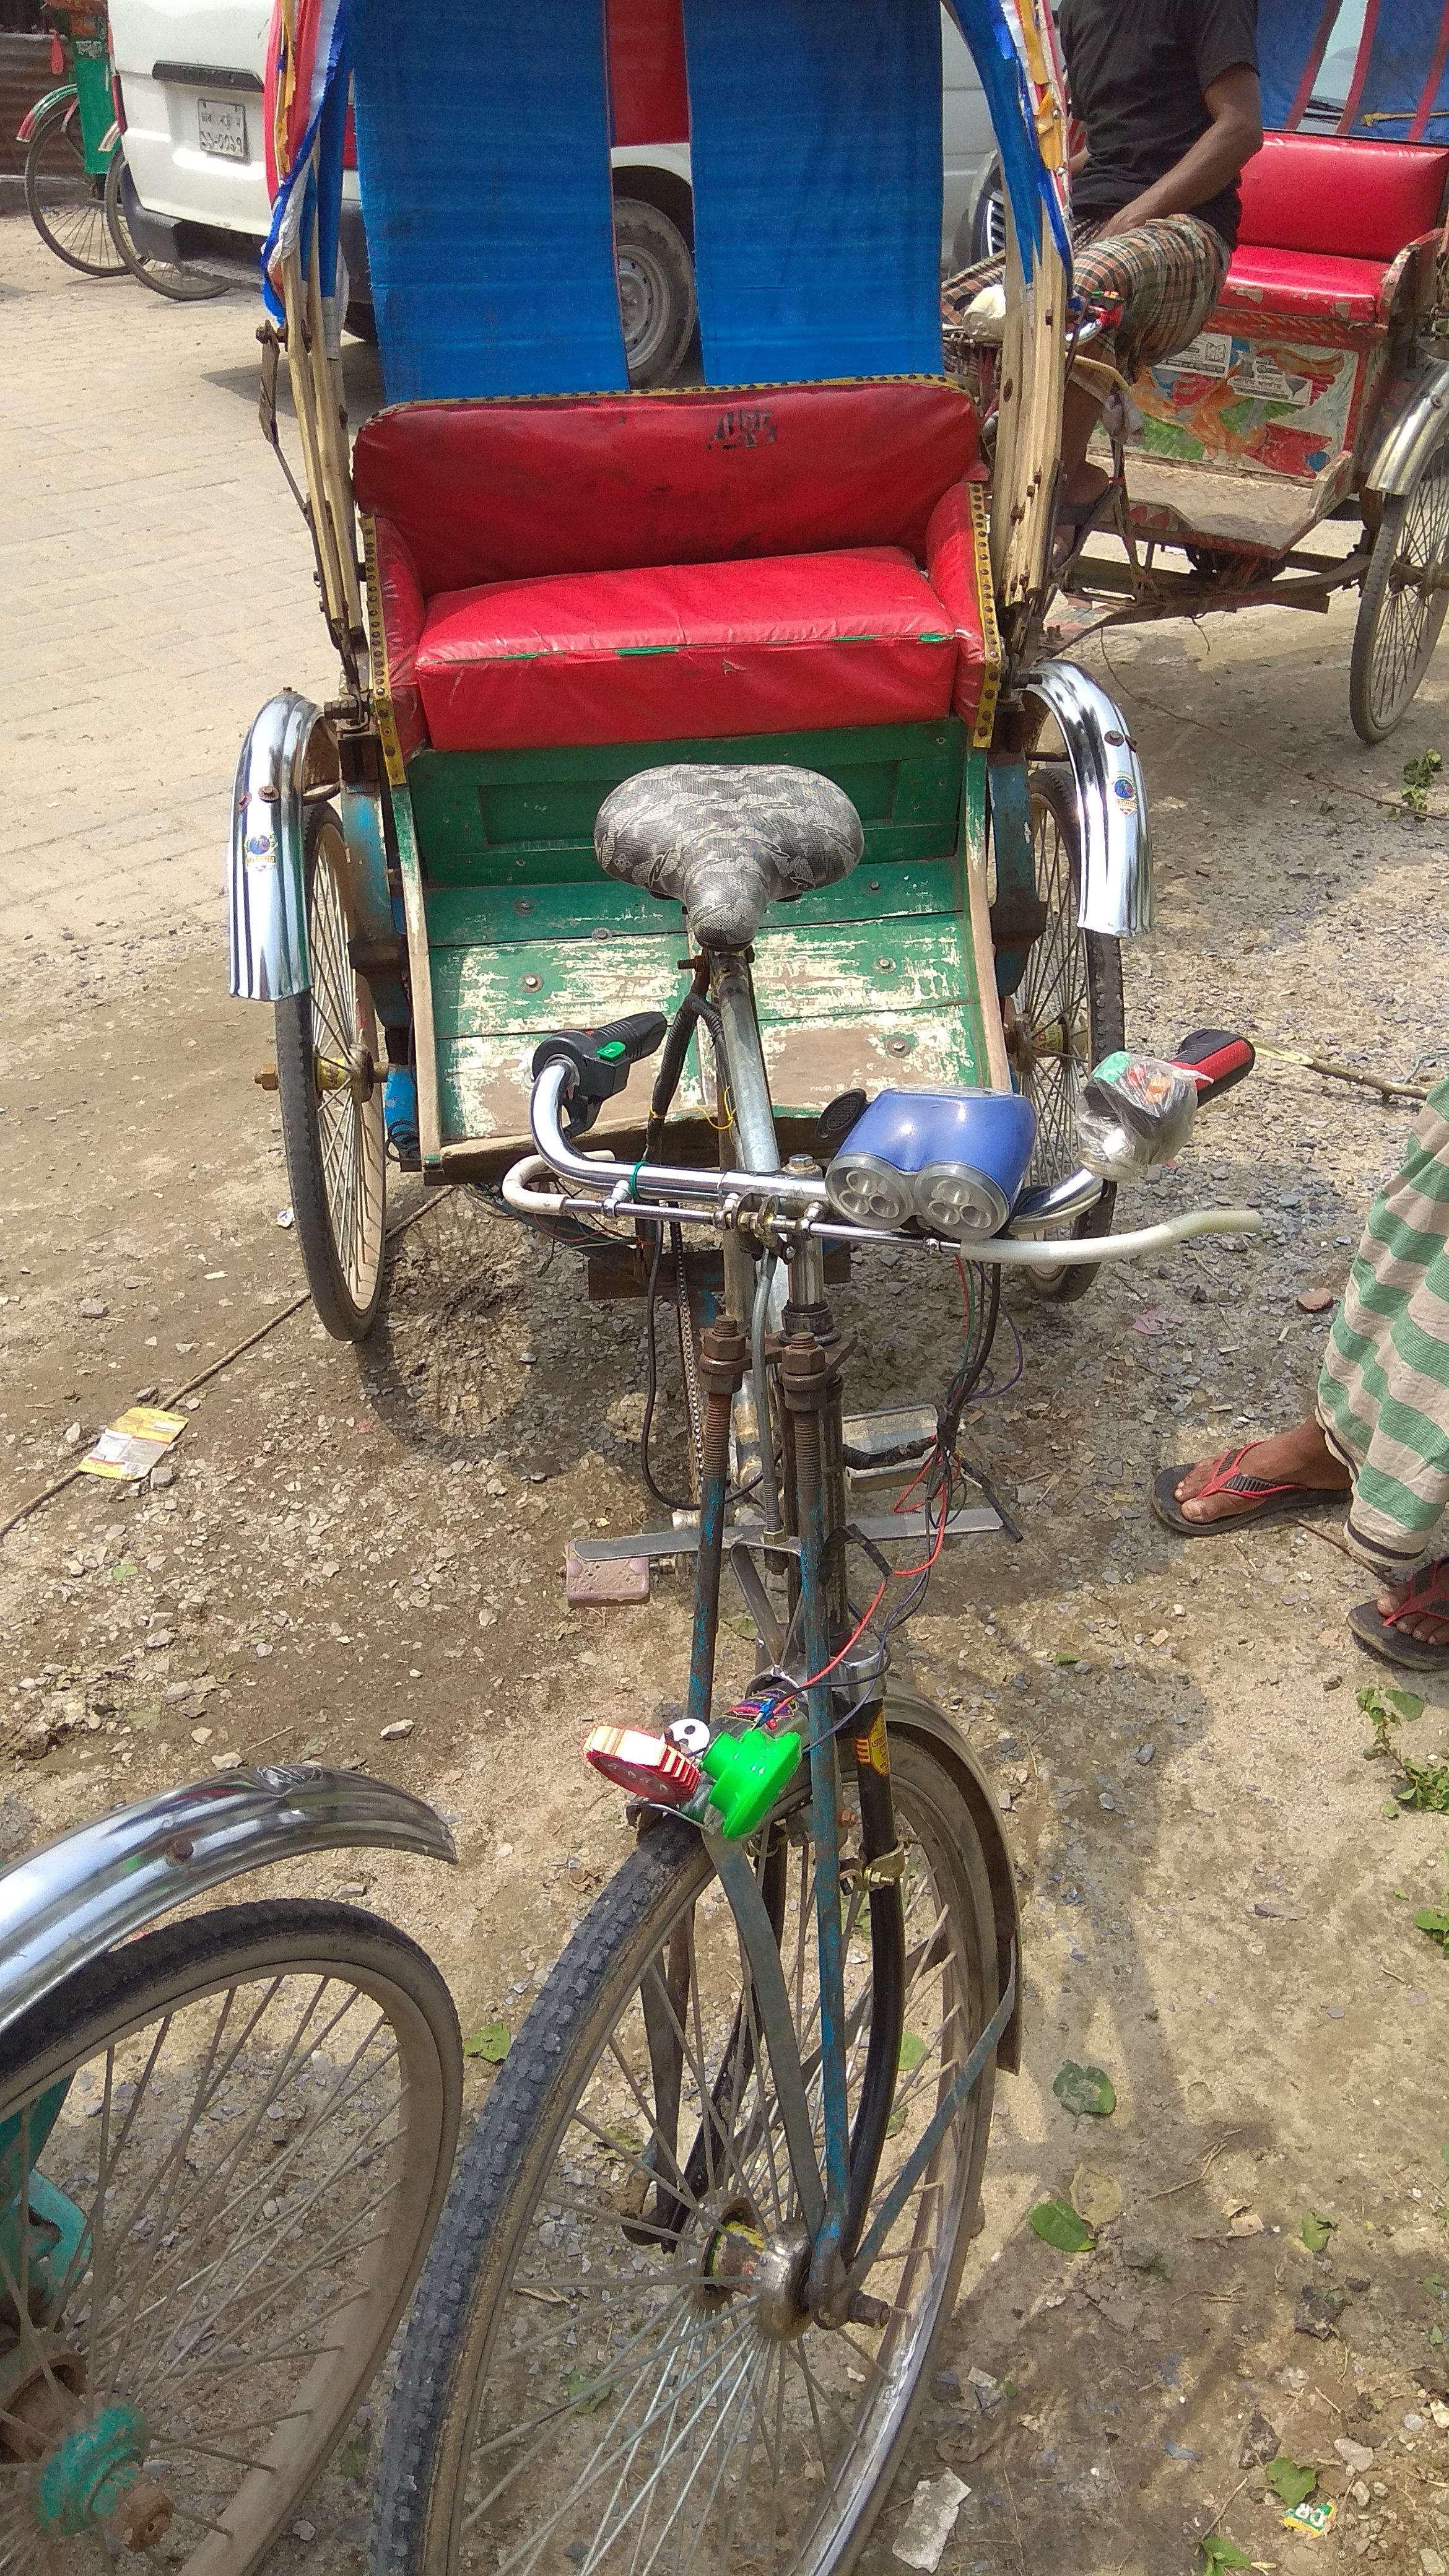Rickshaw: (237, 2, 1253, 2551), (954, 2, 1447, 761), (16, 2, 184, 297)
